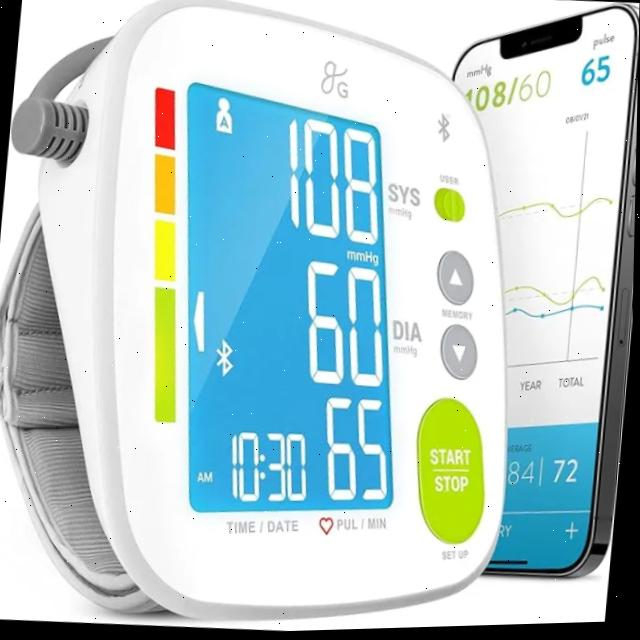dia: (289, 254, 401, 396)
pul: (317, 396, 394, 511)
ssd: (189, 80, 395, 515)
sys: (277, 107, 388, 255)
